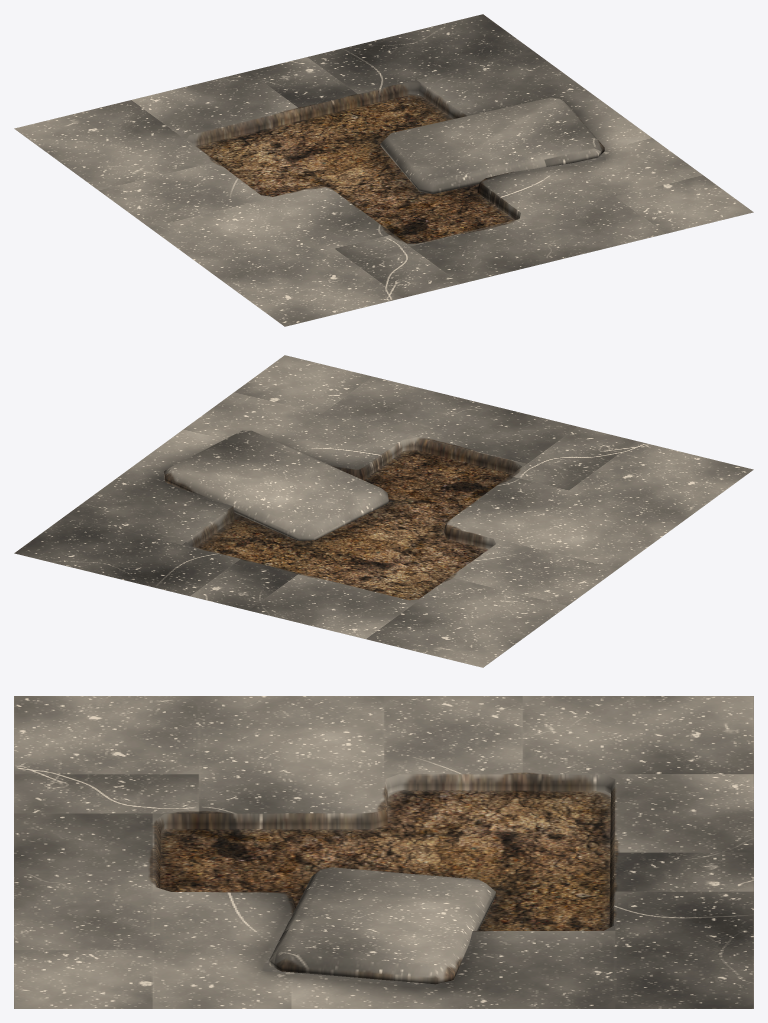
File: floor2.fbx
3 views of the same model, one above another, from view 1: azimuth 30°, elevation 25°; view 2: azimuth 150°, elevation 25°; view 3: azimuth 270°, elevation 25° (orthographic). The views are drawn at different scales.
Visible parts, largest first — view 1: Floor2; view 2: Floor2; view 3: Floor2.
Part boxes in pixels (x1,y1,x2,y2): Floor2: (14,14,753,326); Floor2: (14,355,753,667); Floor2: (14,696,753,1008).
Bounding box in the file's own units: 200 × 9.4 × 200.
